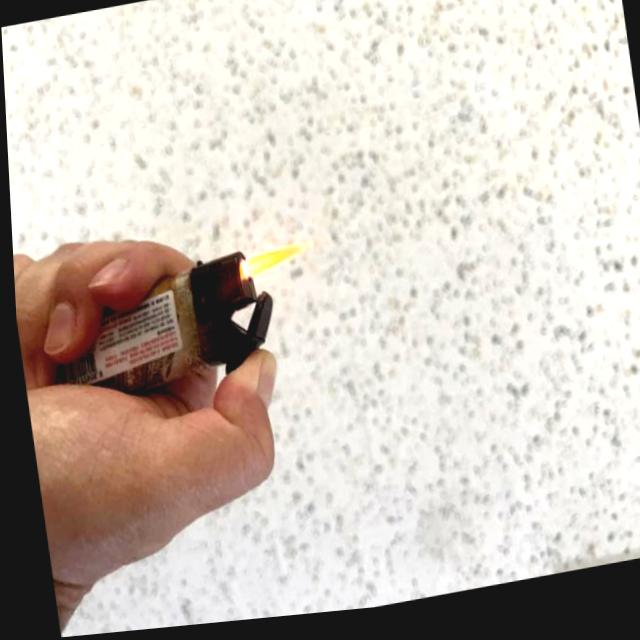Fire: (237, 244, 304, 284)
